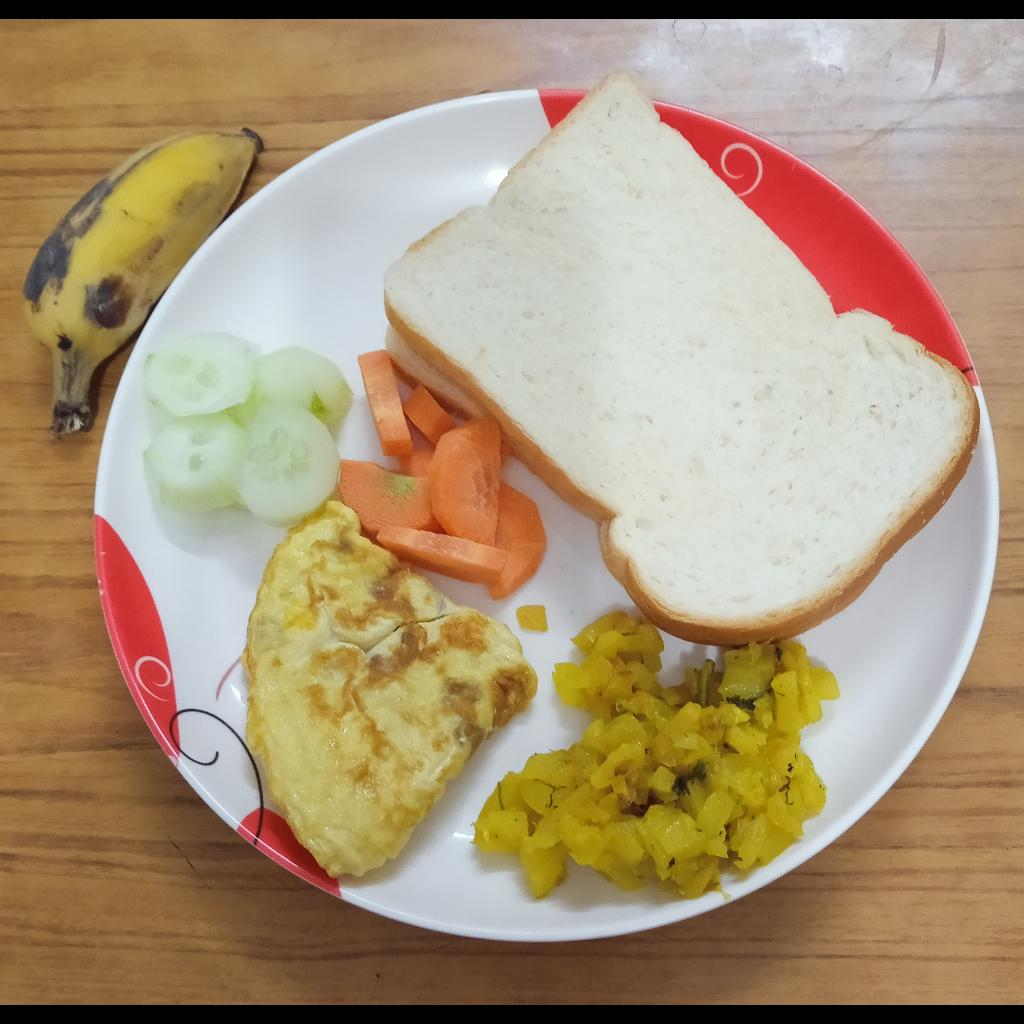banana: (21, 126, 264, 437)
bread: (384, 70, 980, 647)
carrot: (338, 349, 547, 600)
cucumber: (141, 336, 354, 528)
egg-poached: (241, 499, 539, 879)
lau: (472, 615, 838, 900)
